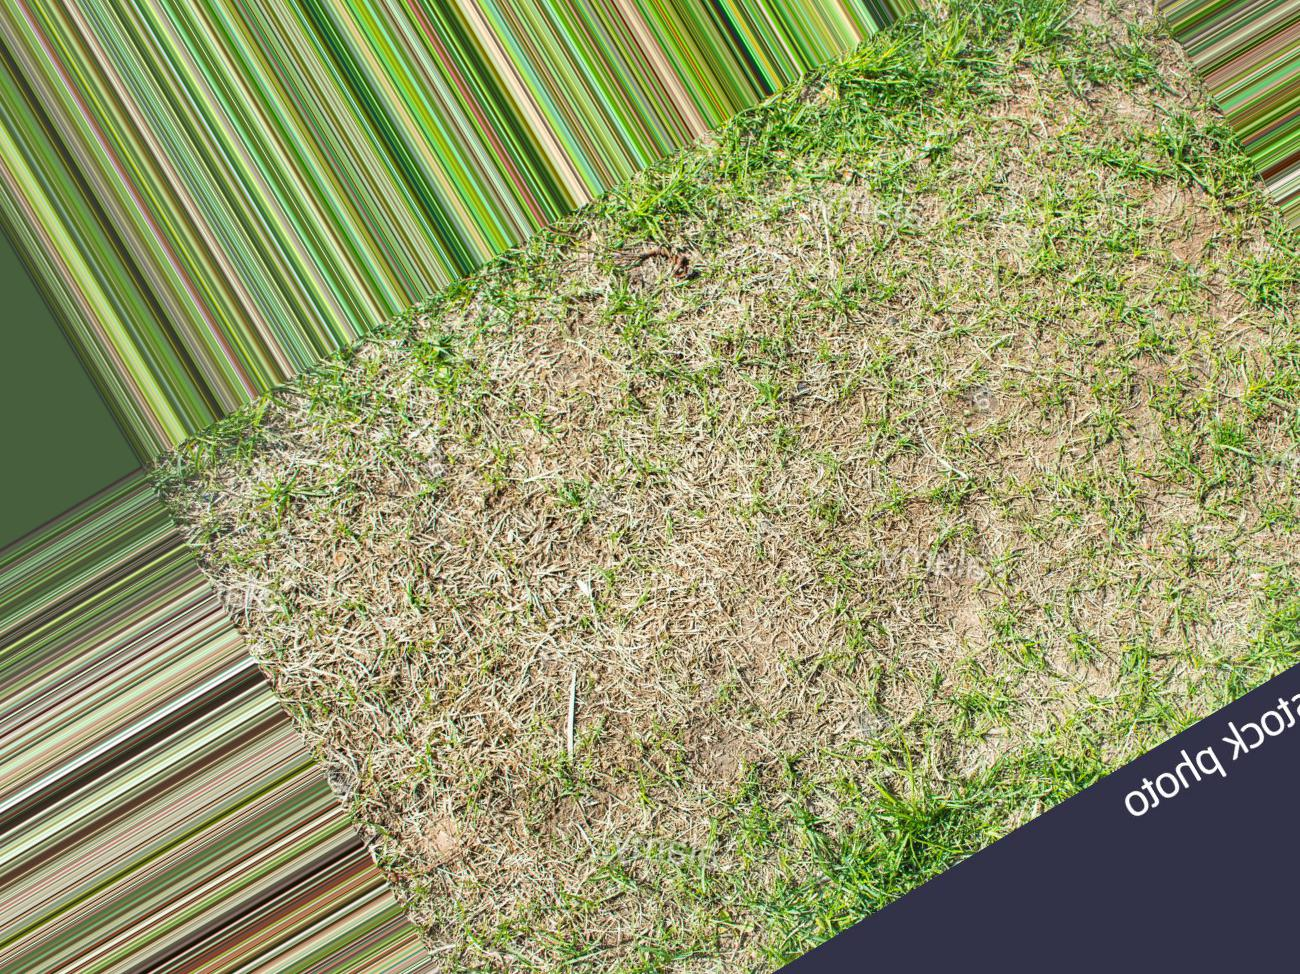patch: (677, 407, 870, 557), (370, 727, 590, 850), (417, 515, 597, 655), (907, 505, 1052, 647), (651, 605, 825, 700), (260, 537, 372, 660), (965, 360, 1082, 450), (405, 432, 530, 500), (537, 362, 630, 452)
